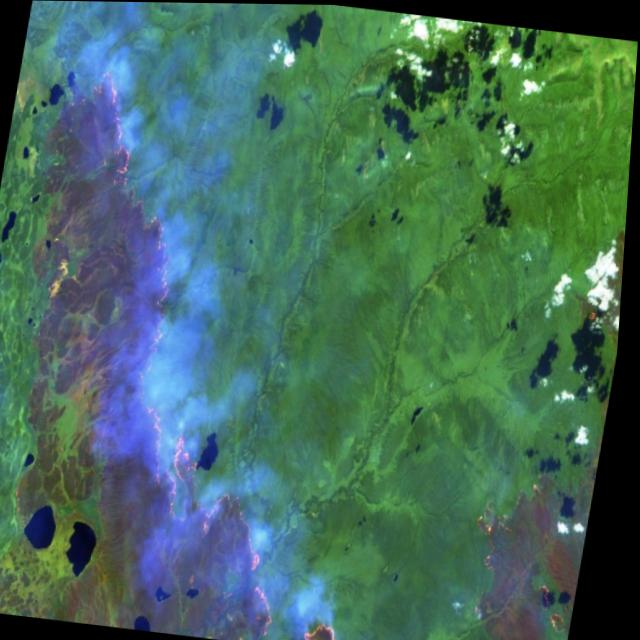fire: (0, 54, 371, 640), (300, 596, 360, 640)
